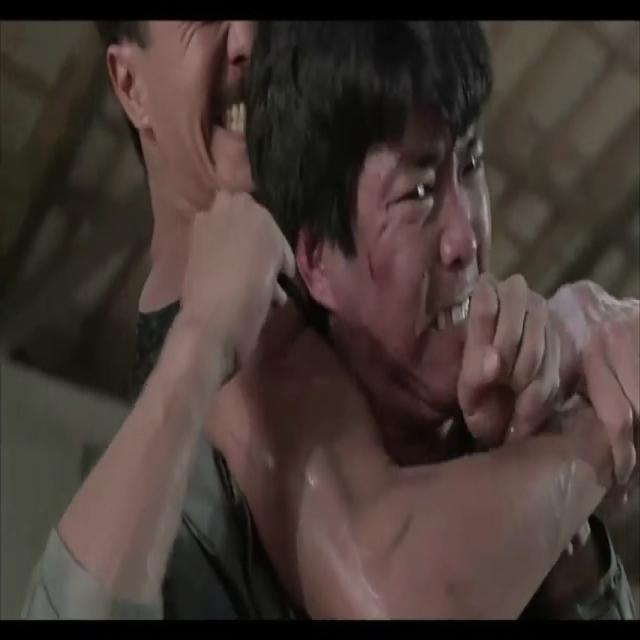fight: (3, 2, 639, 630)
